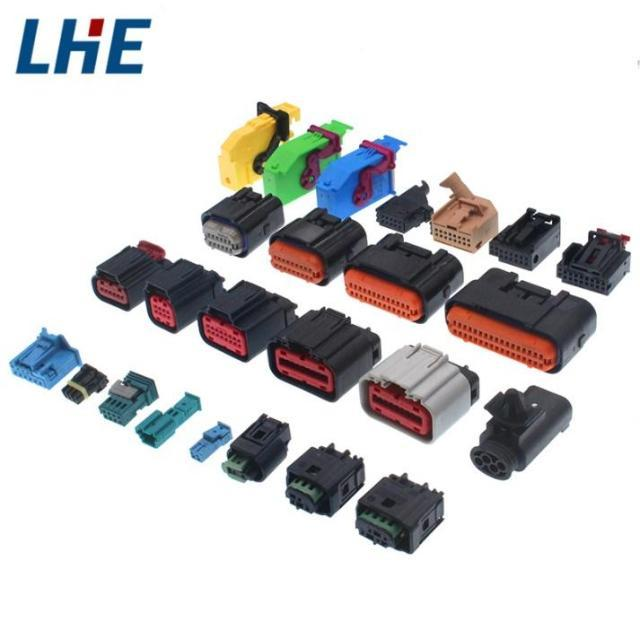connector: (436, 255, 602, 381), (348, 323, 486, 457), (450, 362, 580, 491), (257, 293, 388, 414), (336, 224, 469, 332), (258, 188, 372, 301), (301, 124, 424, 227), (250, 99, 358, 214), (190, 263, 302, 373), (344, 459, 454, 567), (272, 426, 375, 530), (190, 170, 292, 270), (410, 169, 509, 268), (131, 243, 227, 341), (214, 405, 302, 493), (484, 197, 572, 283), (84, 231, 168, 318), (208, 103, 280, 197), (553, 220, 638, 299), (6, 323, 86, 403), (132, 383, 204, 452), (92, 364, 162, 431), (369, 181, 440, 241), (57, 359, 111, 411), (185, 418, 235, 465), (271, 101, 299, 121)
